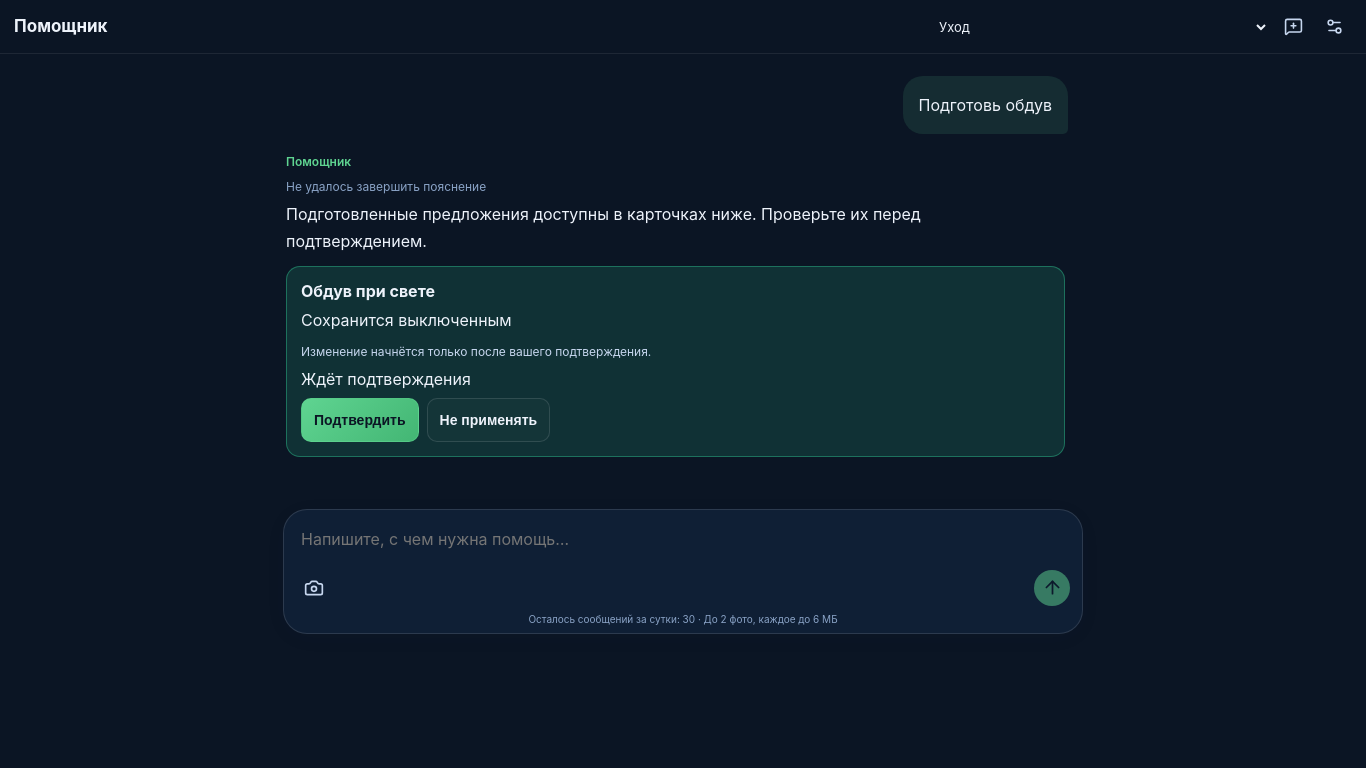
Test: nezavershennyy otvet failed ne skryvaet gotovuyu kartochku i ne povtoryaet podtverzhdenie
Expected: the text "Подготовленные предложения доступны в карточках ниже. Проверьте их перед подтверждением." is shown, [286, 204, 925, 251]
Expected: the text "Сохранится выключенным" is shown, [301, 310, 512, 330]
Click the button "Подтвердить": click(360, 420) [301, 398, 418, 442]
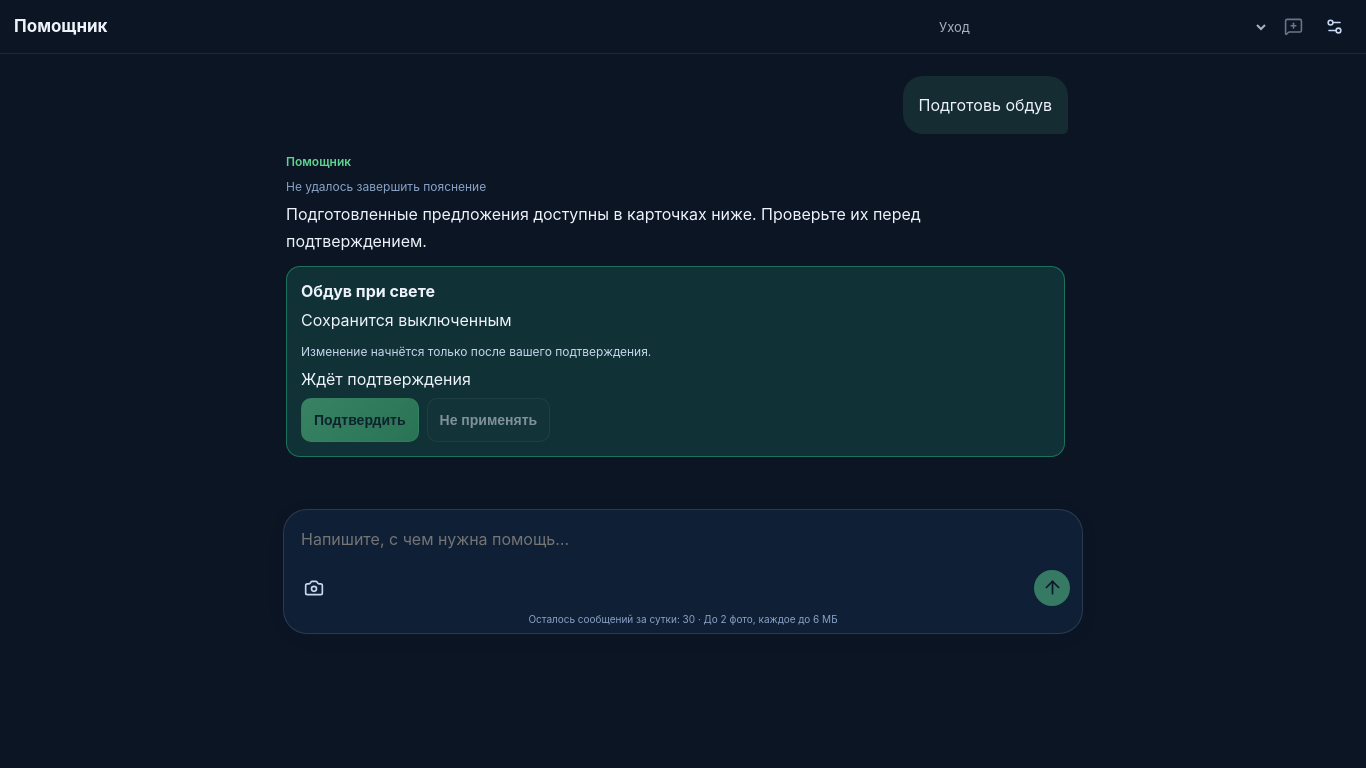
Click the button "Подтвердить": click(360, 420) [301, 398, 418, 442]
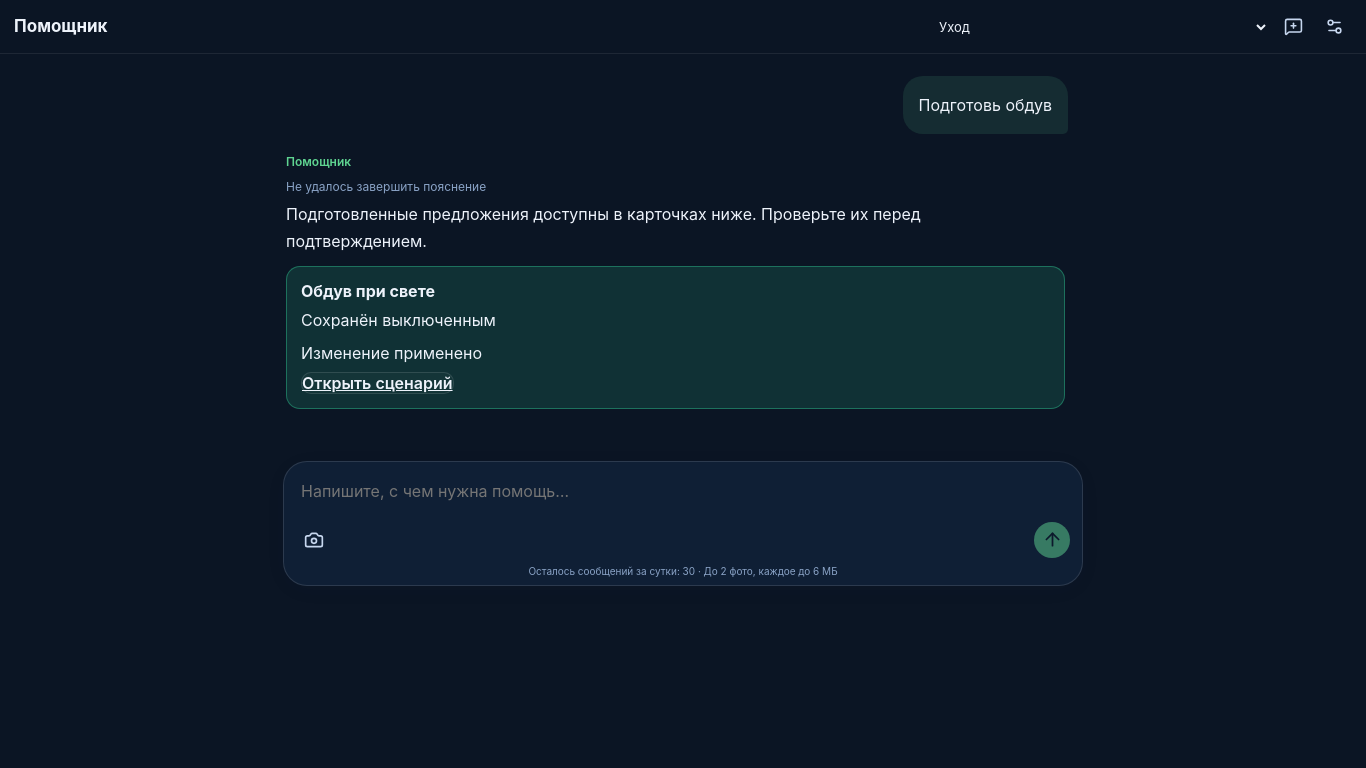
Expected: the text "Сохранён выключенным" is shown, [301, 310, 496, 330]
Expected: the button "Подтвердить" is gone
